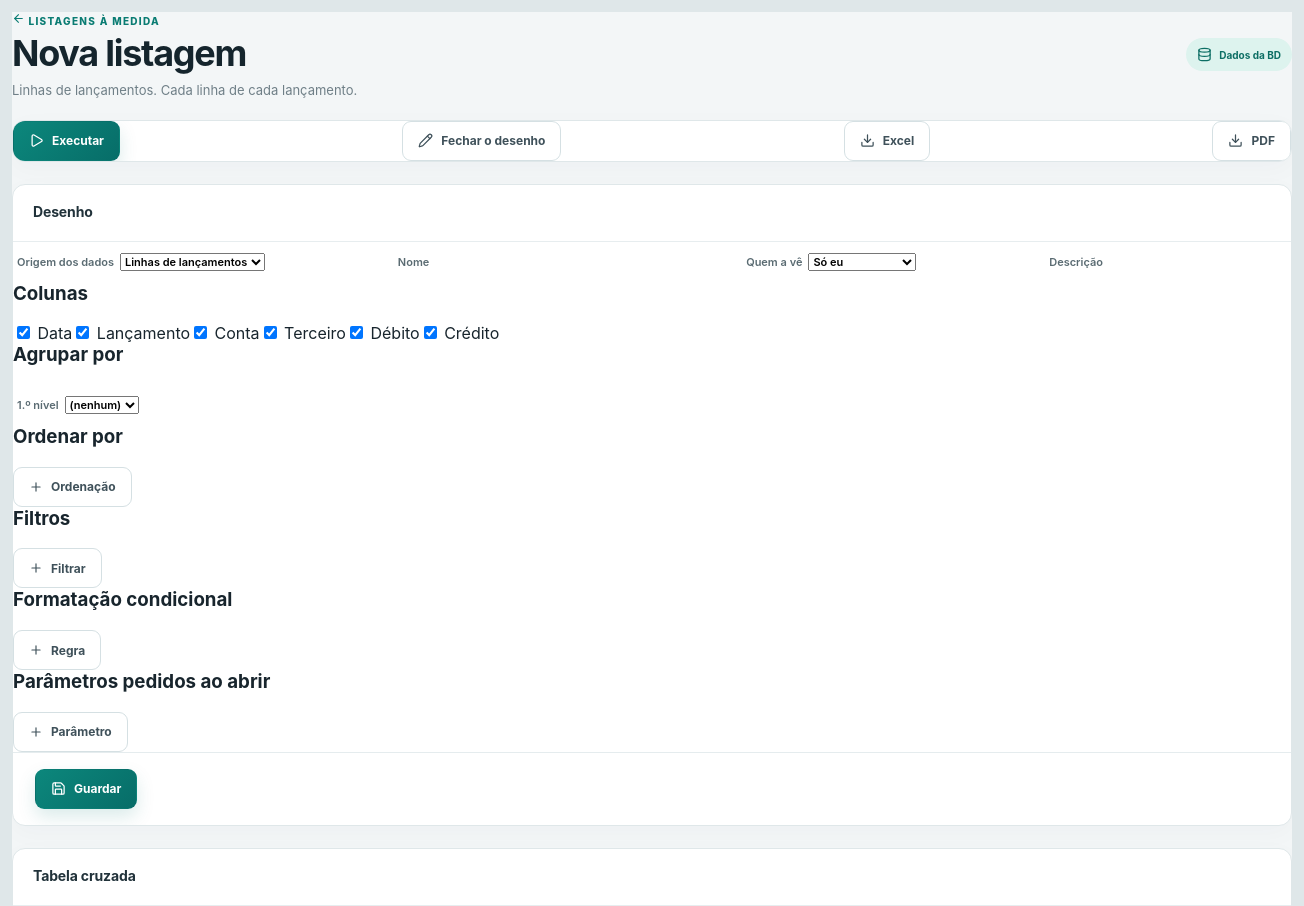
Scenario: listagens à medida › troca a origem dos dados numa listagem nova e repõe as colunas dessa origem
The image size is (1304, 906).
Expected: the checkbox labelled "Débito" is checked, x1=350 y1=326 x2=363 y2=339
Select "Compras do e-Fatura" in the dropdown labelled "Origem dos dados" at (192,262), box x1=120 y1=253 x2=265 y2=271
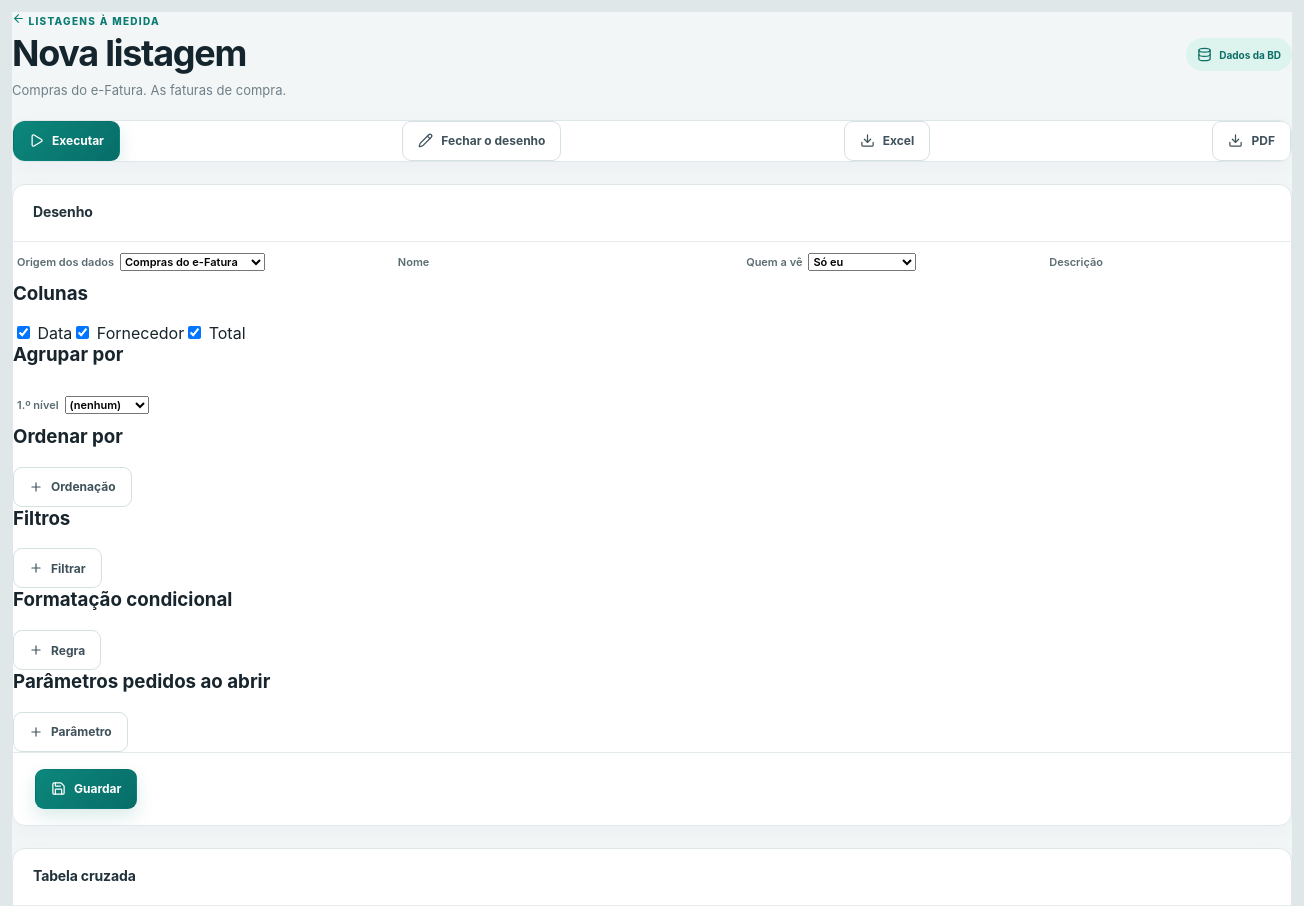
Result: the label labelled "Débito" is gone
